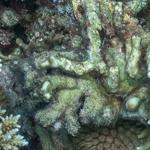dead: (4, 2, 147, 148)
